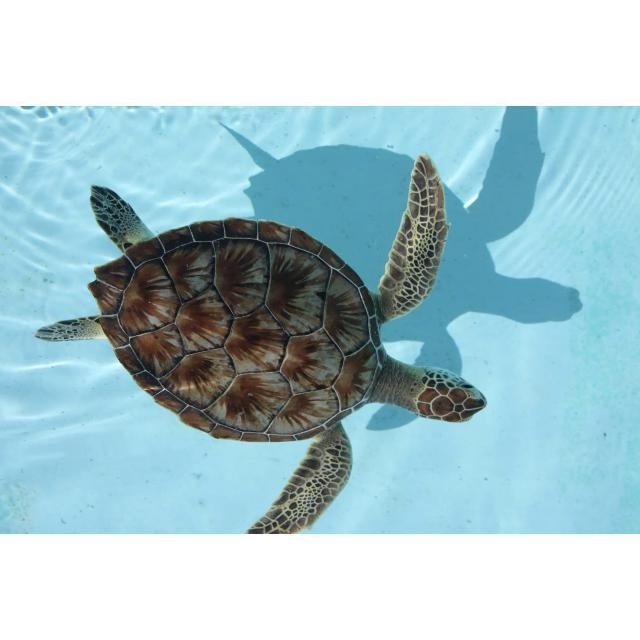turtle: (34, 152, 489, 531)
